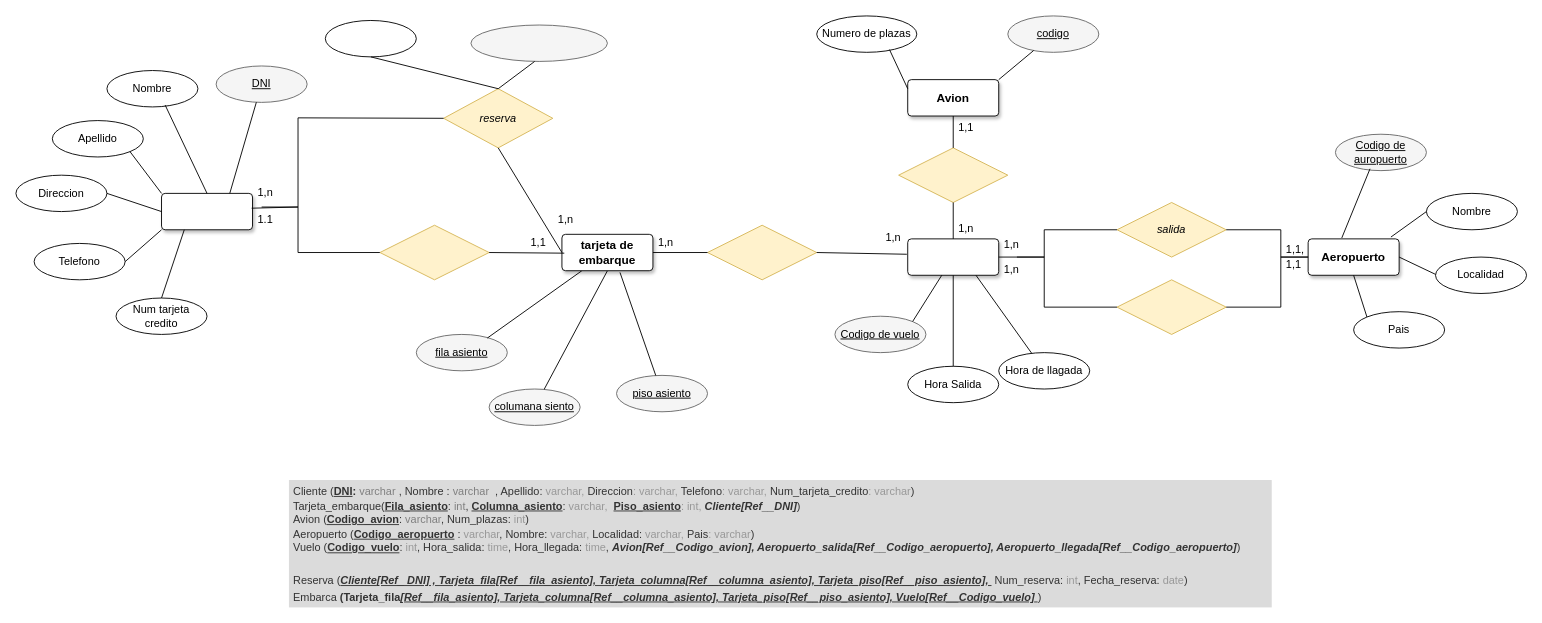
The diagram is 1542 pixels wide and 623 high, and some of its shapes have lost their labels. Each missing label, with the centre of its shape:
adquirir: (x=434, y=252)
Cliente: (x=207, y=212)
embarca: (x=762, y=252)
Fecha de la reserva: (x=370, y=38)
llegada: (x=1171, y=306)
Numero de reserva: (x=538, y=42)
vuela: (x=953, y=174)
Vuelo: (x=953, y=258)
